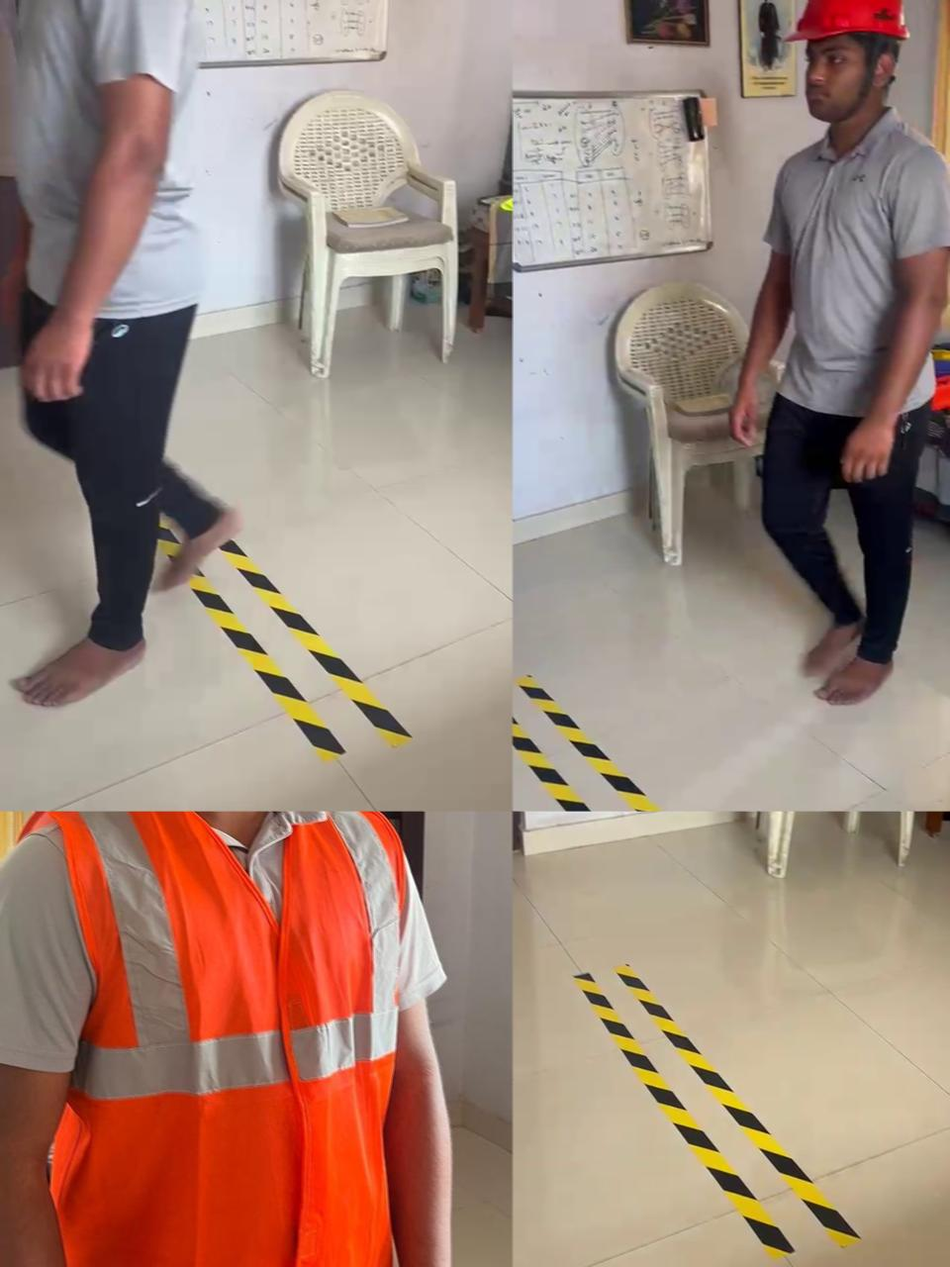BorderLine: (574, 962, 859, 1261), (155, 523, 412, 762), (513, 673, 783, 811)
Helmet: (781, 0, 911, 43)
No_Vest: (8, 0, 208, 323), (764, 105, 950, 418)
Person: (0, 811, 459, 1267), (4, 0, 243, 715), (729, 0, 950, 705)
Vest: (17, 811, 409, 1267)
